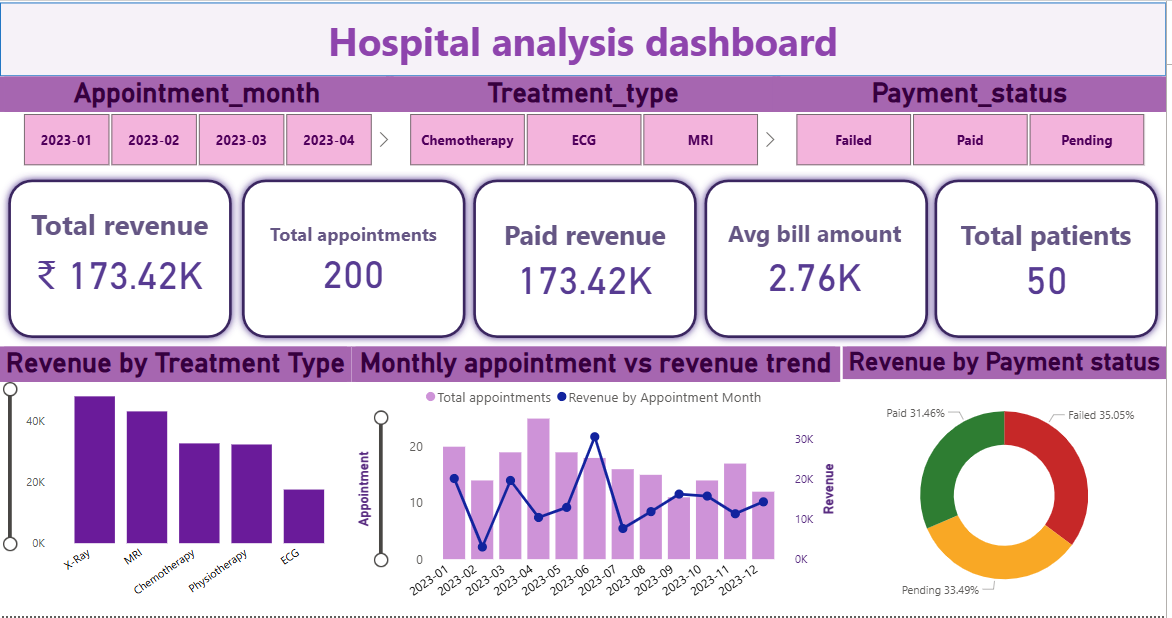

Layout of this report page (visuals, bound fields, positions):
{"tool":"powerbi","page":{"name":"Page 1","canvas":[1280,720],"ordinal":0},"visuals":[{"type":"shape","box":[0,231.9,263.5,192.1],"z":1,"group":"g1"},{"type":"shape","box":[0,46.7,1280.3,81],"z":2},{"type":"shape","box":[256.6,231.9,263.5,192.1],"z":7,"group":"g2"},{"type":"shape","box":[510.1,231.9,263.5,192.1],"z":8,"group":"g2"},{"type":"shape","box":[763.6,231.9,263.5,192.1],"z":9,"group":"g2"},{"type":"shape","box":[1017.2,231.9,263.5,192.1],"z":10,"group":"g2"},{"type":"cardVisual","title":"Total Revenue","fields":{"Data":["public billing.Total revenue"]},"box":[22,241.6,219.6,159.2],"z":11,"group":"g1"},{"type":"cardVisual","title":"Total Revenue","fields":{"Data":["public billing.Paid revenue"]},"box":[532.8,248.4,219.6,159.2],"z":12,"group":"g2"},{"type":"cardVisual","title":"Total Revenue","fields":{"Data":["public appointments.Total appointments"]},"box":[278.9,248.4,219.6,159.2],"z":13,"group":"g2"},{"type":"cardVisual","title":"Total Revenue","fields":{"Data":["public billing.Avg bill amount"]},"box":[785.2,248.4,219.6,159.2],"z":14,"group":"g2"},{"type":"cardVisual","title":"Total Revenue","fields":{"Data":["public patients.Total patients"]},"box":[1039.1,248.4,219.6,159.2],"z":15,"group":"g2"},{"type":"clusteredColumnChart","title":"Revenue by Treatment Type","fields":{"Category":["public treatments.treatment_type"],"Y":["public billing.Total revenue by treatment"]},"box":[0,424,385.6,296.4],"z":16},{"type":"lineClusteredColumnComboChart","title":"Monthly appointment vs revenue trend","fields":{"Y":["public appointments.Total appointments"],"Y2":["public billing.Revenue by Appointment Month"],"Category":["public appointments.appointment_month"]},"box":[385.6,424,536.5,296.4],"z":17},{"type":"donutChart","title":"Revenue by Payment status","fields":{"Category":["public billing.payment_status"],"Y":["public billing.Revenue by Payment Status"]},"box":[924.9,424,355.4,296.4],"z":18},{"type":"group","id":"g1","title":"Group 1","box":[0,231.9,263.5,192.1],"z":19},{"type":"group","id":"g2","title":"Group 2","box":[256.6,231.9,1023.7,192.1],"z":20},{"type":"slicer","title":"Appointment_month","fields":{"Values":["public appointments.appointment_month"]},"box":[0,127.6,432.2,104.3],"z":21},{"type":"slicer","title":"Treatment_type","fields":{"Values":["public treatments.treatment_type"]},"box":[424,127.6,432.2,104.3],"z":22},{"type":"slicer","title":"Payment_status","fields":{"Values":["public billing.payment_status"]},"box":[847.8,127.6,432.2,104.3],"z":23}]}

Visuals, with their boxes on the page's 1280x720 design canvas (x1, y1, x2, y2). These are canvas units, not pixel positions in the 1172x618 screenshot, which may show the page scaled, cropped or inside an application window:
shape: 0,232,264,424
shape: 0,47,1280,128
shape: 257,232,520,424
shape: 510,232,774,424
shape: 764,232,1027,424
shape: 1017,232,1281,424
"Total Revenue" cardVisual: 22,242,242,401
"Total Revenue" cardVisual: 533,248,752,408
"Total Revenue" cardVisual: 279,248,498,408
"Total Revenue" cardVisual: 785,248,1005,408
"Total Revenue" cardVisual: 1039,248,1259,408
"Revenue by Treatment Type" clusteredColumnChart: 0,424,386,720
"Monthly appointment vs revenue trend" lineClusteredColumnComboChart: 386,424,922,720
"Revenue by Payment status" donutChart: 925,424,1280,720
"Group 1" group: 0,232,264,424
"Group 2" group: 257,232,1280,424
"Appointment_month" slicer: 0,128,432,232
"Treatment_type" slicer: 424,128,856,232
"Payment_status" slicer: 848,128,1280,232
